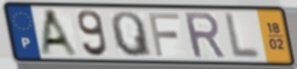9: (76, 8, 110, 58)
A: (38, 8, 82, 59)
F: (146, 11, 182, 58)
L: (223, 11, 263, 61)
Q: (109, 10, 154, 59)
R: (181, 10, 228, 60)
